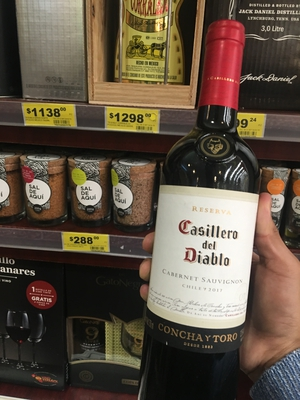casillero del diablo cabernet sauvignon: (138, 32, 264, 400)
